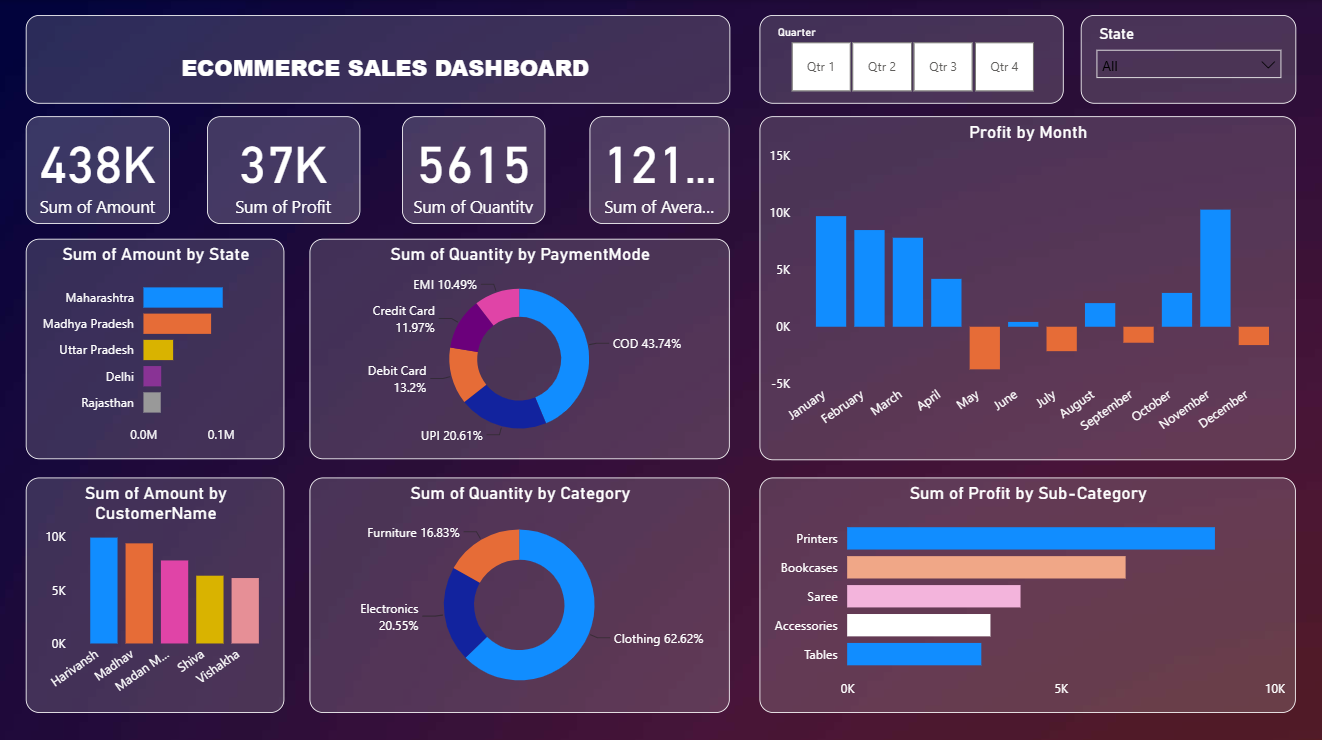

What the dashboard file says about the page in this screenshot:
{"tool":"powerbi","page":{"name":"Page 1","canvas":[1280,720],"ordinal":0},"visuals":[{"type":"textbox","box":[27.2,14.6,679.9,85.6],"z":0},{"type":"columnChart","title":"Profit by Month","fields":{"Category":["Orders.Order Date.Variation.Date Hierarchy.Month"],"Y":["Sum(Details.Profit)"]},"box":[736.3,111.9,517.4,331.7],"z":1000},{"type":"barChart","fields":{"Category":["Details.Sub-Category"],"Y":["Sum(Details.Profit)"]},"box":[736.3,461,517.4,227.6],"z":2000},{"type":"donutChart","fields":{"Category":["Details.Category"],"Y":["Sum(Details.Quantity)"]},"box":[301.5,461,405.6,227.6],"z":3000},{"type":"donutChart","fields":{"Category":["Details.PaymentMode"],"Y":["Sum(Details.Quantity)"]},"box":[301.5,230.5,405.6,213],"z":4000},{"type":"card","fields":{"Values":["Sum(Details.Amount)"]},"box":[27.2,111.9,139.1,104.1],"z":5000},{"type":"card","fields":{"Values":["Sum(Details.Profit)"]},"box":[203.3,111.9,147.8,104.1],"z":6000},{"type":"card","fields":{"Values":["Sum(Details.Quantity)"]},"box":[391,111.9,138.1,104.1],"z":7000},{"type":"card","fields":{"Values":["Sum(Details.Average Order)"]},"box":[571.9,111.9,135.2,104.1],"z":8000},{"type":"barChart","fields":{"Category":["Orders.State"],"Y":["Sum(Details.Amount)"]},"box":[27.2,230.5,250,213],"z":9000},{"type":"columnChart","fields":{"Category":["Orders.CustomerName"],"Y":["Sum(Details.Amount)"]},"box":[27.2,461,250,227.6],"z":10000},{"type":"slicer","fields":{"Values":["Orders.Order Date.Variation.Date Hierarchy.Quarter"]},"box":[736.3,14.6,293.7,85.6],"z":11000},{"type":"slicer","fields":{"Values":["Orders.State"]},"box":[1045.6,14.6,208.1,85.6],"z":12000}]}

Visuals, with their boxes in screenshot pixels (x1, y1, x2, y2), scaled from the page's 1280x720 canvas onto the 1322x740 screenshot:
textbox: <region>28, 15, 730, 103</region>
"Profit by Month" columnChart: <region>760, 115, 1295, 456</region>
barChart - Details.Sub-Category x Sum(Details.Profit): <region>760, 474, 1295, 708</region>
donutChart - Details.Category x Sum(Details.Quantity): <region>311, 474, 730, 708</region>
donutChart - Details.PaymentMode x Sum(Details.Quantity): <region>311, 237, 730, 456</region>
card - Sum(Details.Amount): <region>28, 115, 172, 222</region>
card - Sum(Details.Profit): <region>210, 115, 363, 222</region>
card - Sum(Details.Quantity): <region>404, 115, 546, 222</region>
card - Sum(Details.Average Order): <region>591, 115, 730, 222</region>
barChart - Orders.State x Sum(Details.Amount): <region>28, 237, 286, 456</region>
columnChart - Orders.CustomerName x Sum(Details.Amount): <region>28, 474, 286, 708</region>
slicer - Orders.Order Date.Variation.Date Hierarchy.Quarter: <region>760, 15, 1064, 103</region>
slicer - Orders.State: <region>1080, 15, 1295, 103</region>
